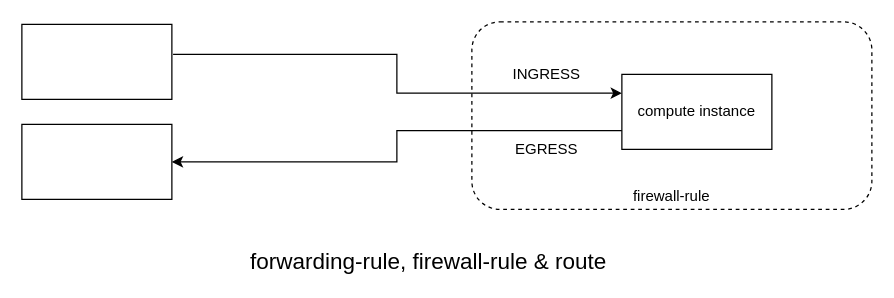
Image size: 894x298. Some labels were removed from this diagram. The box of each missing label's shape, as (x1, y1, x2, y2) in pixels:
forwarding-rule: (21, 23, 172, 99)
route: (21, 123, 172, 199)
